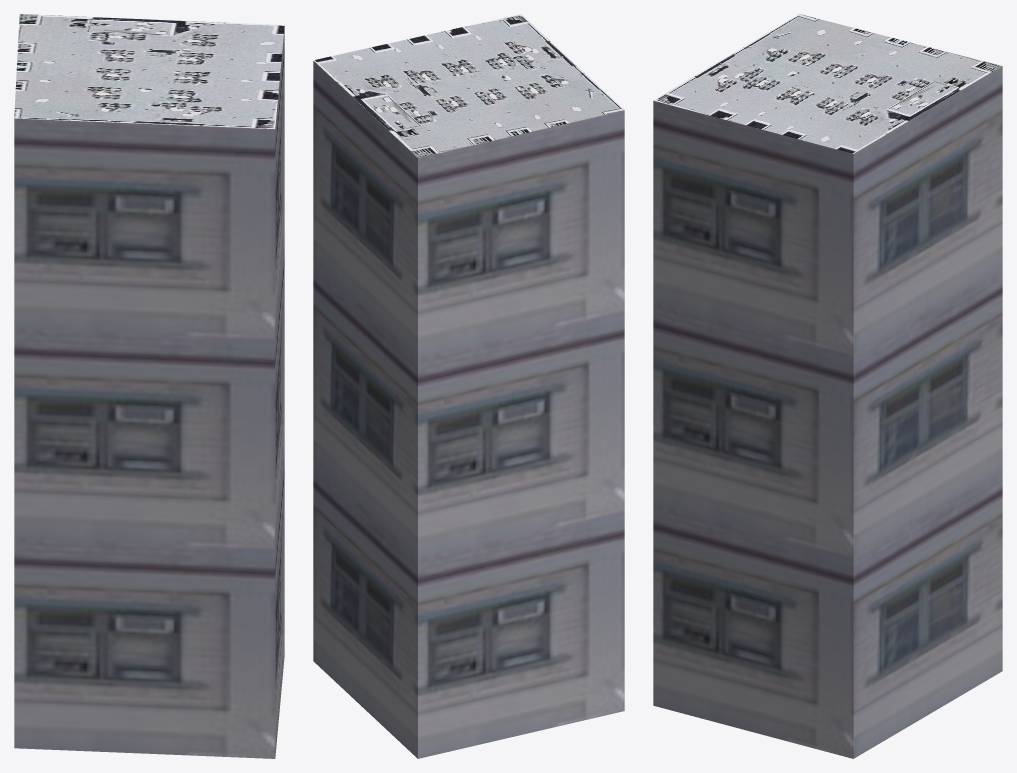
Rendered from ResTex__4248.fbx.
The picture shows the model from 3 angles, left to right: view 1: azimuth 30°, elevation 25°; view 2: azimuth 150°, elevation 25°; view 3: azimuth 270°, elevation 25°; orthographic projection. The views are drawn at different scales.
Parts seen in each view (by area): view 1: CityEngineMaterial_1_m, CityEngineMaterial_4_m; view 2: CityEngineMaterial_1_m, CityEngineMaterial_4_m; view 3: CityEngineMaterial_1_m, CityEngineMaterial_4_m.
Boxes of the visible parts, x1,y1,x2,y2 form: CityEngineMaterial_1_m: (14,28,284,758); CityEngineMaterial_4_m: (14,14,284,129); CityEngineMaterial_1_m: (313,61,624,758); CityEngineMaterial_4_m: (313,14,624,157); CityEngineMaterial_1_m: (653,66,1002,758); CityEngineMaterial_4_m: (653,14,1002,153).
Size of the model in its own units: 4.47 by 9 by 4.71.
2 materials, 2 textured.
